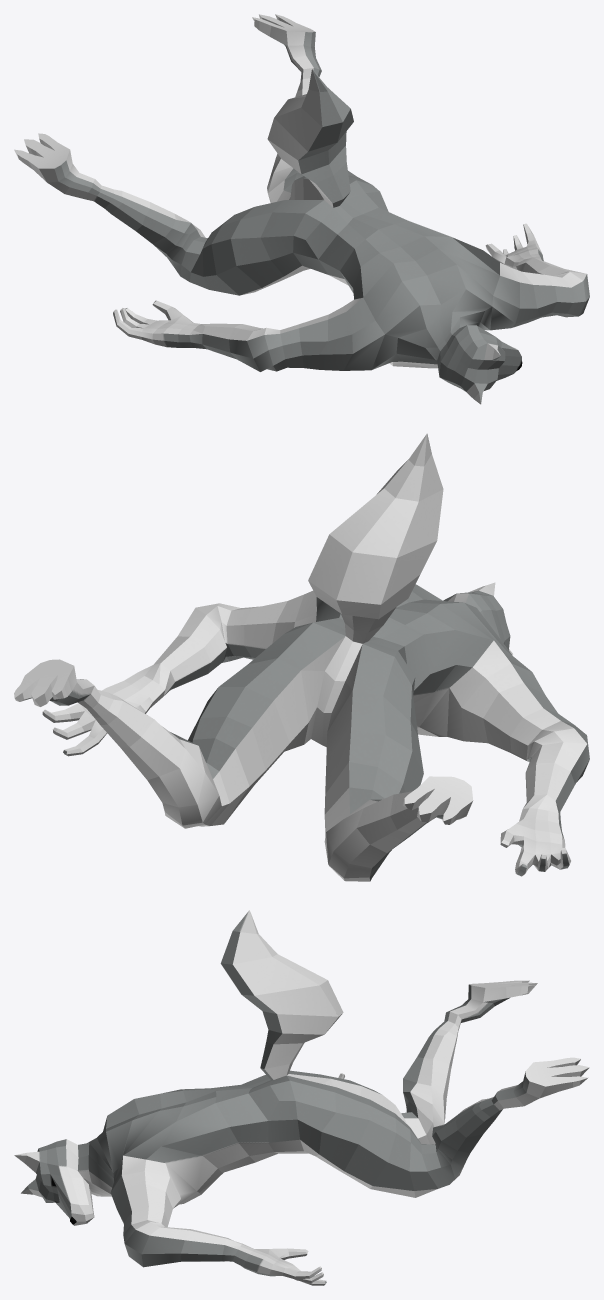
The model's file is WolfDead(83).obj.
3 views of the same model, one above another, from view 1: azimuth 30°, elevation 25°; view 2: azimuth 150°, elevation 25°; view 3: azimuth 270°, elevation 25° (orthographic). The views are drawn at different scales.
Parts seen in each view (by area): view 1: Box001; view 2: Box001; view 3: Box001.
Boxes of the visible parts, left/top/right/bottom form: Box001: left=14, top=14, right=589, bottom=404; Box001: left=14, top=433, right=589, bottom=881; Box001: left=14, top=910, right=589, bottom=1285.
Size of the model in its own units: 125 by 79.66 by 156.
